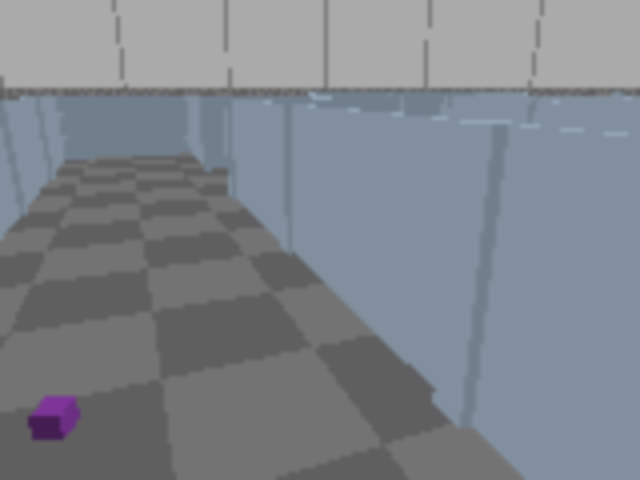puck: (28, 397, 80, 440)
